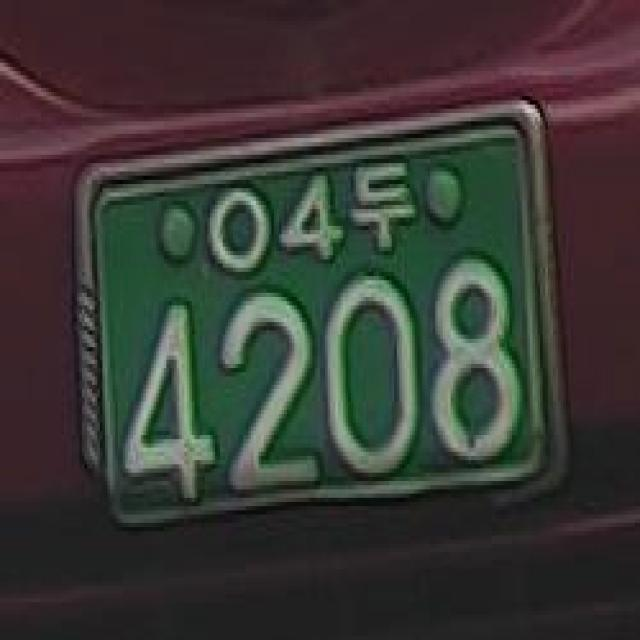illegal_plate: (72, 103, 577, 560)
